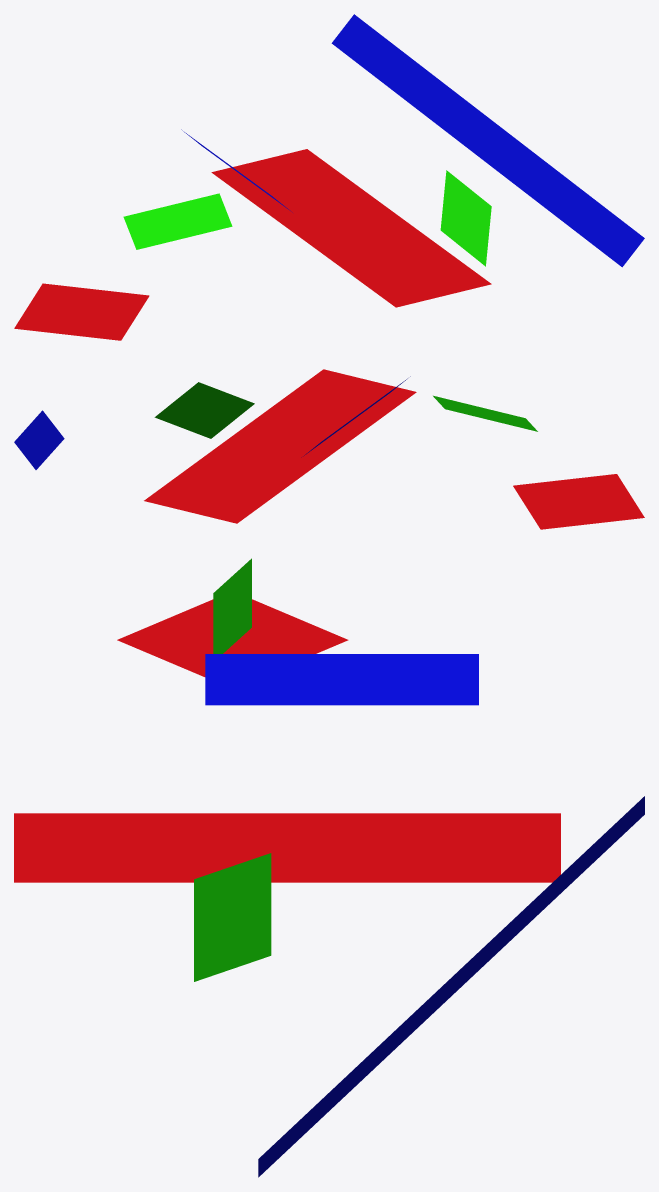
The model's file is planes.gltf.
3 renders of one model, top to bottom at view 1: azimuth 30°, elevation 25°; view 2: azimuth 150°, elevation 25°; view 3: azimuth 270°, elevation 25°, orthographic. The views are drawn at different scales.
Visible parts, largest first — view 1: Plane.003, Plane.005, Plane, Plane.001, Plane.004; view 2: Plane.003, Plane, Plane.004, Plane.005, Plane.001; view 3: Plane.003, Plane.002, Plane.004, Plane.005, Plane, Plane.001.
Part boxes in pixels (x1,y1,x2,y2): Plane.003: [211, 149, 491, 307]; Plane.005: [331, 14, 644, 267]; Plane: [14, 283, 149, 340]; Plane.001: [123, 193, 232, 249]; Plane.004: [440, 170, 491, 266]; Plane.003: [144, 369, 416, 523]; Plane: [513, 474, 644, 529]; Plane.004: [154, 382, 254, 438]; Plane.005: [14, 410, 64, 469]; Plane.001: [433, 395, 537, 431]; Plane.003: [14, 813, 560, 882]; Plane.002: [205, 654, 478, 705]; Plane.004: [194, 853, 271, 981]; Plane.005: [258, 796, 644, 1177]; Plane: [117, 599, 348, 676]; Plane.001: [213, 558, 251, 653].
Size of the model in its own units: 19.97 by 5.71 by 11.54.
